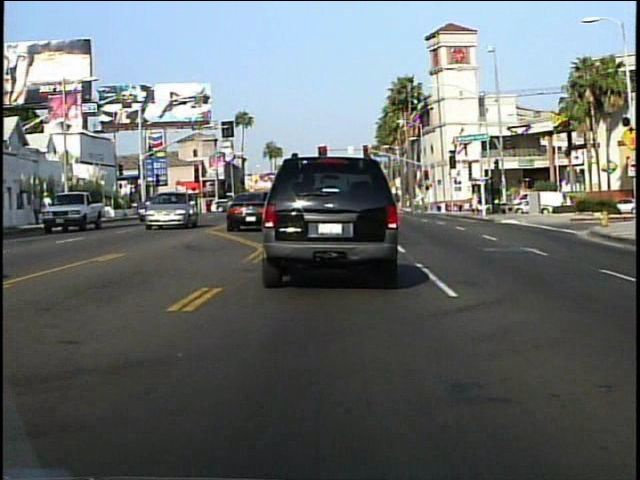person: (169, 191, 185, 222)
